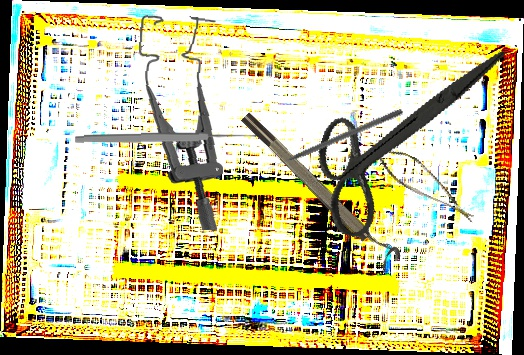Fixation Ring: (238, 103, 404, 274)
Iris Scissors: (297, 8, 506, 264)
Micro Scissor: (363, 141, 488, 223)
Pusher: (266, 106, 404, 172)
Speculum: (126, 13, 234, 231)
Surgical Spoon: (74, 130, 266, 145)
